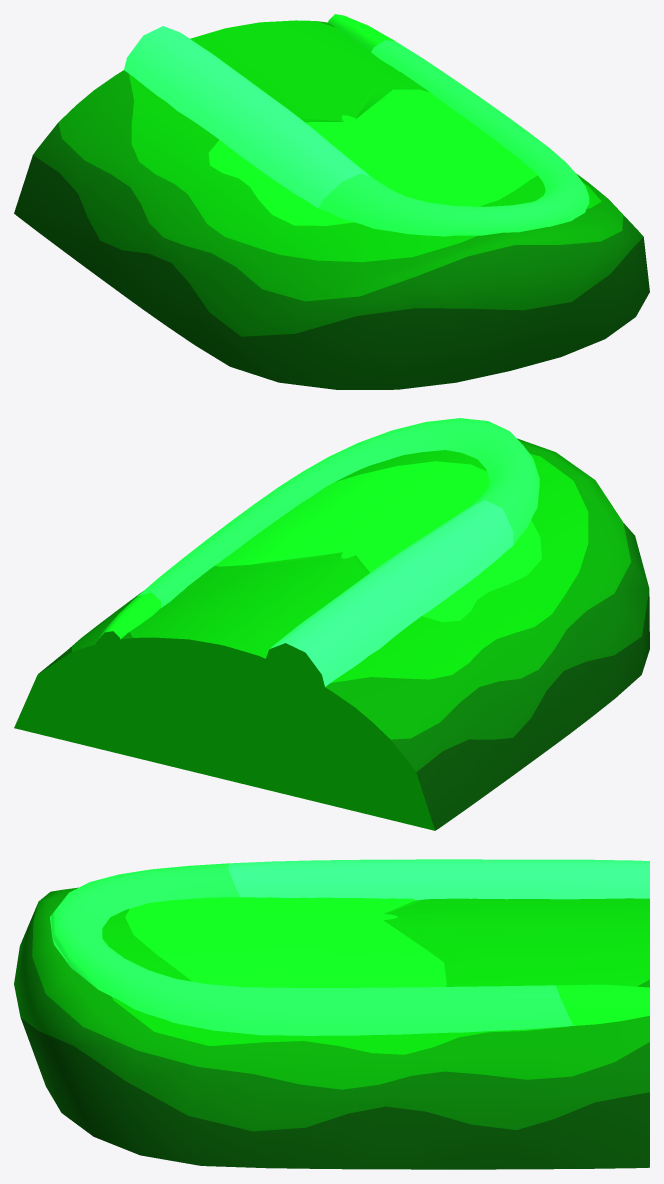
The model's file is shot_espike_136.glb.
3 renders of one model, top to bottom at view 1: azimuth 30°, elevation 25°; view 2: azimuth 150°, elevation 25°; view 3: azimuth 270°, elevation 25°, orthographic. The views are drawn at different scales.
Visible parts, largest first — view 1: shot_espike_136_body, shot_espike_136_light; view 2: shot_espike_136_body, shot_espike_136_light; view 3: shot_espike_136_body, shot_espike_136_light.
Boxes of the visible parts, x1,y1,x2,y2 form: shot_espike_136_body: [14, 20, 649, 389]; shot_espike_136_light: [124, 14, 589, 236]; shot_espike_136_body: [14, 438, 649, 830]; shot_espike_136_light: [93, 418, 539, 689]; shot_espike_136_body: [14, 887, 649, 1169]; shot_espike_136_light: [50, 859, 649, 1035].
Size of the model in its own units: 12 by 4.11 by 14.61.
